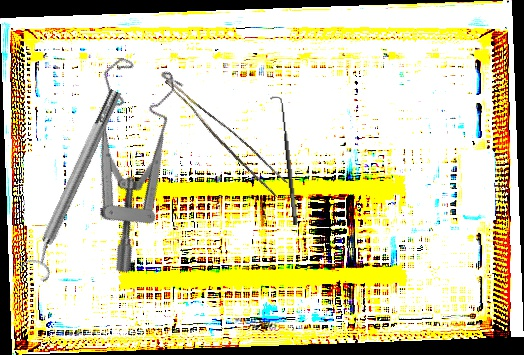Fixation Ring: (16, 84, 133, 284)
Hook Surgical: (269, 94, 300, 226)
Speculum: (23, 45, 223, 277)
Tissue Forceps: (152, 78, 292, 197)
